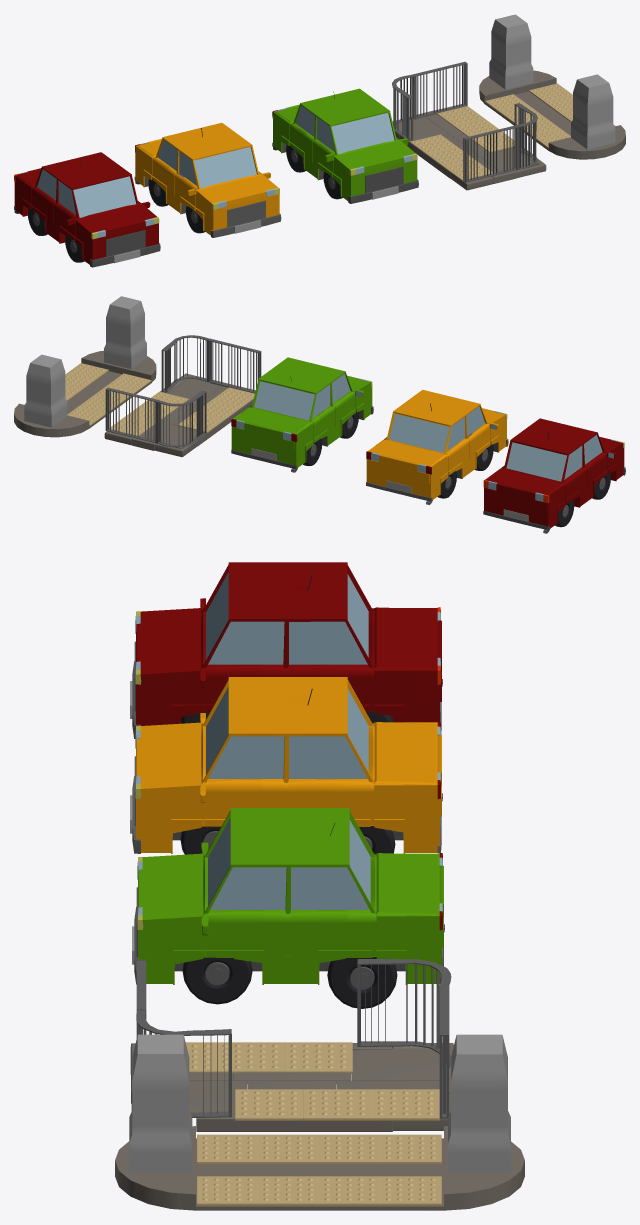
File: Cars2ElectricBoogaloo.fbx
3 views of the same model, one above another, from view 1: azimuth 30°, elevation 25°; view 2: azimuth 150°, elevation 25°; view 3: azimuth 270°, elevation 25° (orthographic). The views are drawn at different scales.
Parts seen in each view (by area): view 1: GreenCar1, RedCar2, YellowCar1, CrossingIsland1, CrossingIsland2; view 2: GreenCar1, YellowCar1, RedCar2, CrossingIsland1, CrossingIsland2; view 3: GreenCar1, CrossingIsland1, YellowCar1, RedCar2, CrossingIsland2.
Part boxes in pixels (<box>): GreenCar1: <box>272,88,418,203</box>; RedCar2: <box>14,152,160,267</box>; YellowCar1: <box>134,122,281,237</box>; CrossingIsland1: <box>479,14,625,159</box>; CrossingIsland2: <box>392,61,546,190</box>; GreenCar1: <box>231,357,373,472</box>; YellowCar1: <box>366,389,508,504</box>; RedCar2: <box>483,418,625,533</box>; CrossingIsland1: <box>14,296,156,437</box>; CrossingIsland2: <box>104,335,261,457</box>; GreenCar1: <box>132,808,444,1008</box>; CrossingIsland1: <box>115,1034,524,1210</box>; YellowCar1: <box>130,677,442,854</box>; RedCar2: <box>130,562,442,738</box>; CrossingIsland2: <box>130,959,453,1131</box>.
Size of the model in its own units: 96.53 by 13.84 by 31.96.
